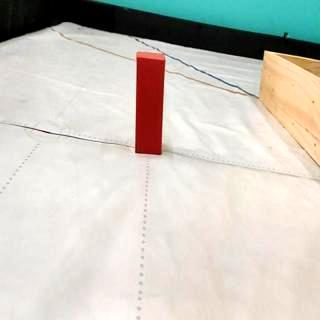redbox: (135, 50, 166, 157)
